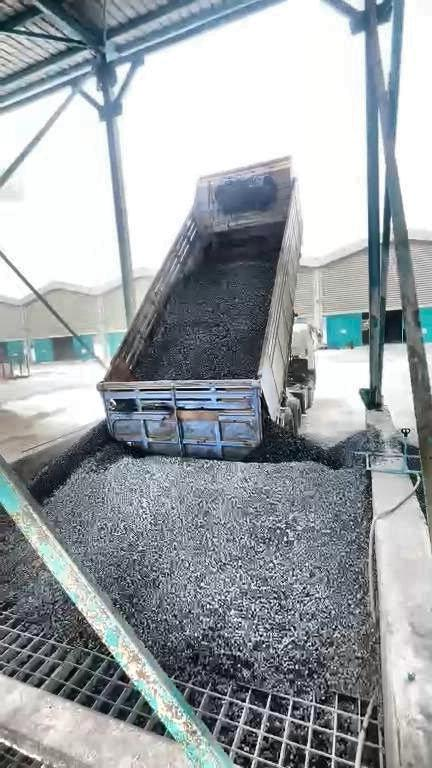gravel: (45, 448, 377, 697), (135, 223, 284, 379), (1, 508, 109, 653), (28, 421, 121, 503), (246, 416, 387, 469)
sand: (0, 409, 62, 461)
